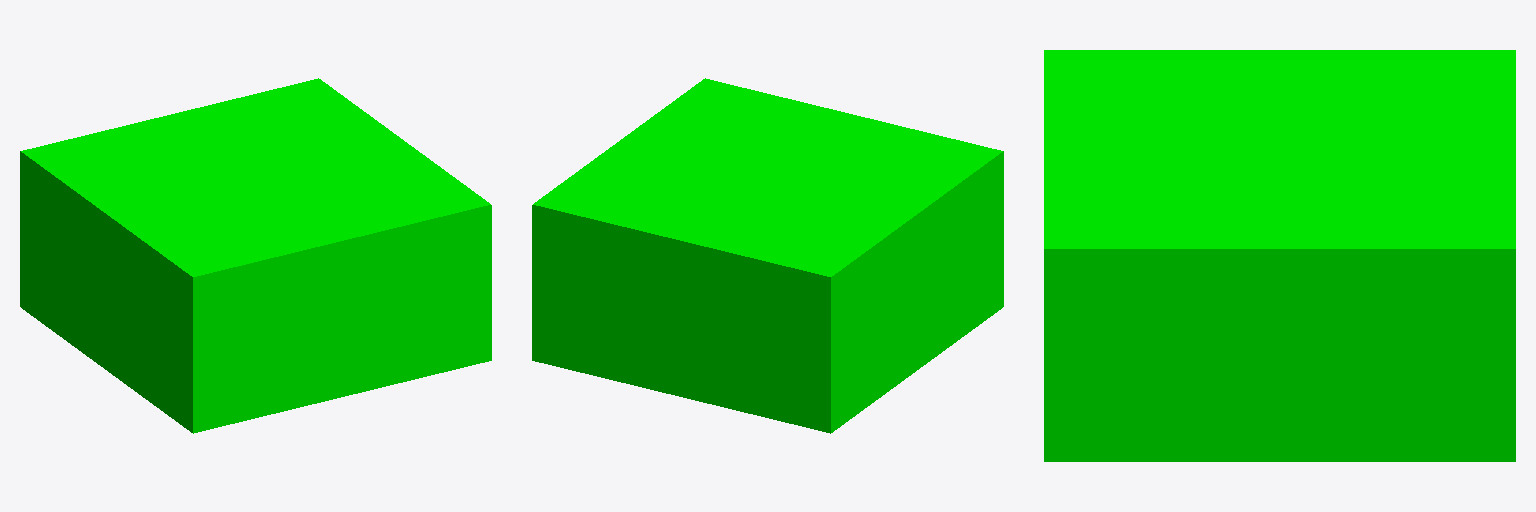
URDF robot description (food_item):
<?xml version="1.0" ?>
<robot name="food_item">
  <link name="food_item">
    <collision>
      <origin xyz="0.0 0.0 0.025" />
      <geometry>
        <box size="0.1 0.1 0.05" />
      </geometry>
    </collision>
    <visual>
      <origin xyz="0.0 0.0 0.025" />
      <material name="c">
        <color rgba="0.0 1. 0 1.0" />
      </material>
      <geometry>
        <box size="0.1 0.1 0.05" />
      </geometry>
    </visual>
  </link>
</robot>

--- Render facts (derived) ---
Views: 3 orthographic renders of the robot side by side, from view 1: azimuth 30°, elevation 25°; view 2: azimuth 150°, elevation 25°; view 3: azimuth 270°, elevation 25°.
Model food_item with 1 links and 0 joints (none), rooted at food_item, posed all joints at 0.
Visible links, largest first — view 1: food_item; view 2: food_item; view 3: food_item.
Boxes of the visible links, x1,y1,x2,y2 form: food_item: (20,78,491,433); food_item: (532,78,1003,433); food_item: (1044,50,1515,461).
Bounding box of the posed robot: 0.1 × 0.1 × 0.05 m (x, y, z).
Geometry: primitives only (box / cylinder / sphere), no mesh files.